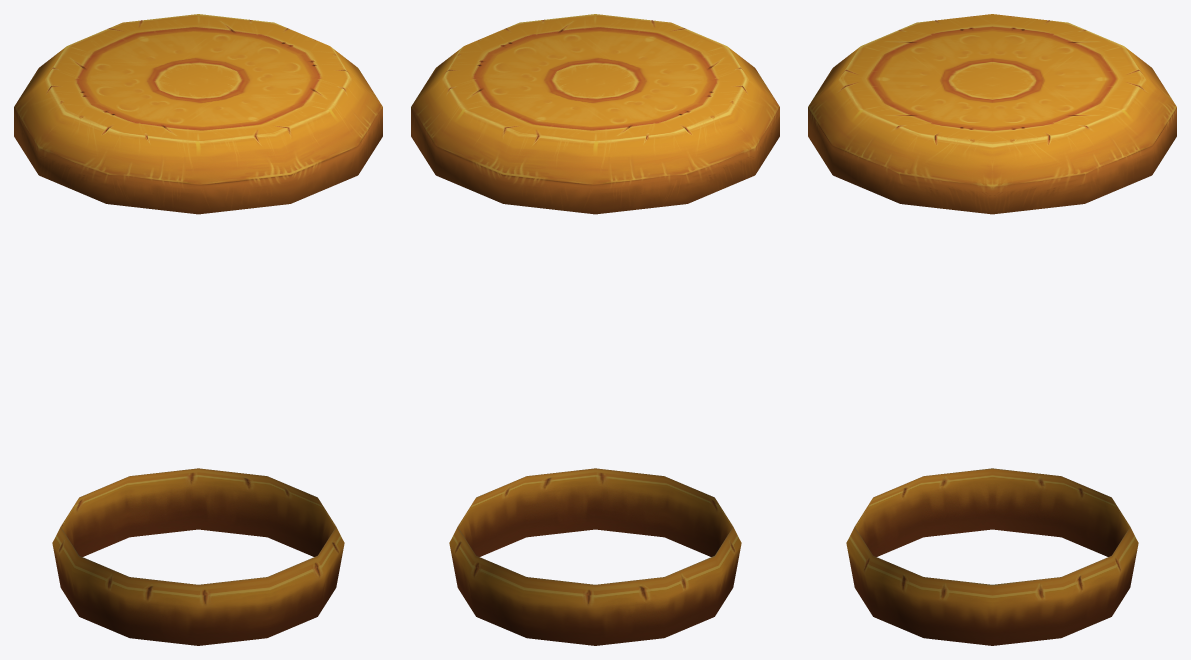
File: tank-ends.fbx
The picture shows the model from 3 angles, left to right: view 1: azimuth 30°, elevation 25°; view 2: azimuth 150°, elevation 25°; view 3: azimuth 270°, elevation 25°; orthographic projection.
Parts seen in each view (by area): view 1: pCylinder1; view 2: pCylinder1; view 3: pCylinder1.
Part boxes in pixels (<box>): pCylinder1: <box>14,14,382,645</box>; pCylinder1: <box>411,14,779,645</box>; pCylinder1: <box>808,14,1176,645</box>.
Bounding box in the file's own units: 6.48 × 9.87 × 6.48.
